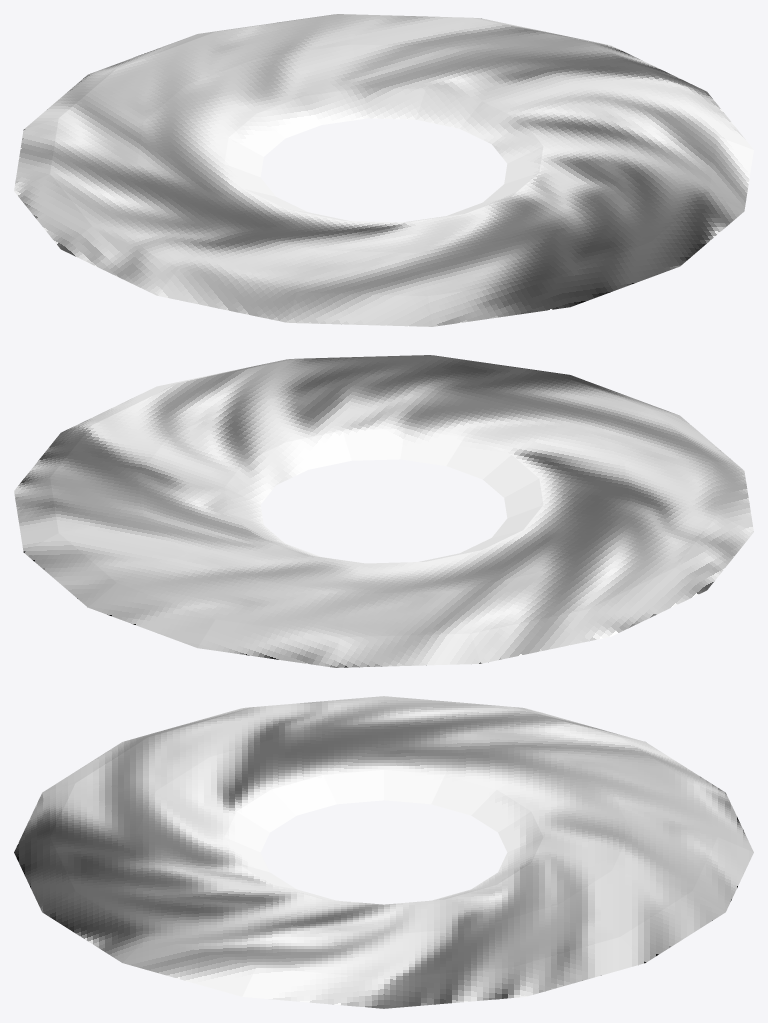
Rendered from accretion_disk.glb.
The picture shows the model from 3 angles, top to bottom: view 1: azimuth 30°, elevation 25°; view 2: azimuth 150°, elevation 25°; view 3: azimuth 270°, elevation 25°; orthographic projection.
Visible parts, largest first — view 1: Torus; view 2: Torus; view 3: Torus.
Boxes of the visible parts, bbox=[...] form: Torus: bbox=[14, 14, 753, 326]; Torus: bbox=[14, 355, 753, 667]; Torus: bbox=[14, 696, 753, 1008].
Size of the model in its own units: 3 by 0.0967 by 3.
Materials: 1 (1 with a texture image).
